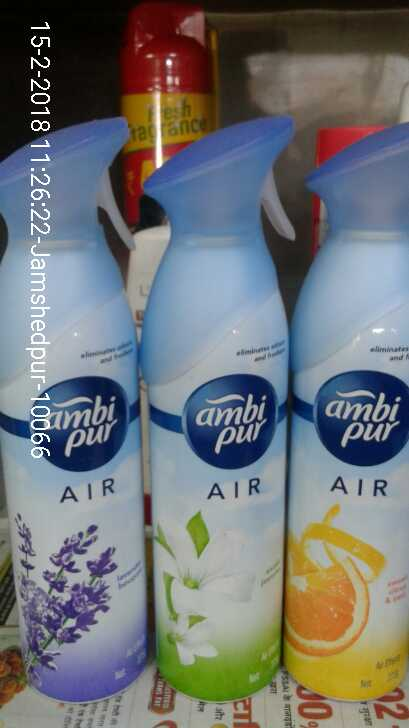ambipure: (3, 114, 150, 701), (143, 111, 287, 702), (294, 119, 409, 701)
